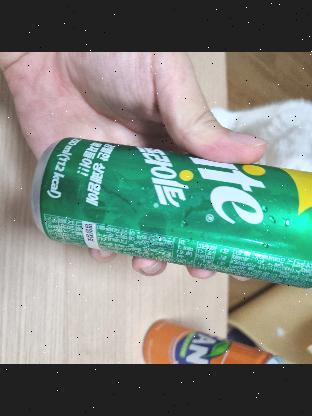Can: (31, 126, 312, 291)
